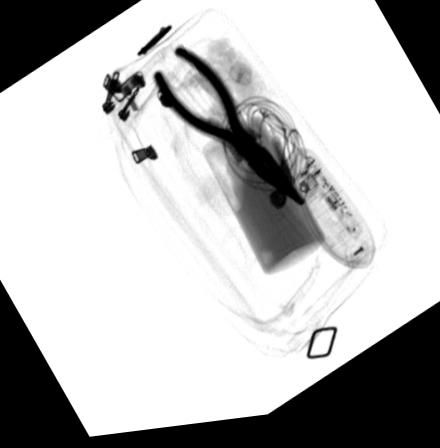Pliers: (152, 49, 307, 215)
